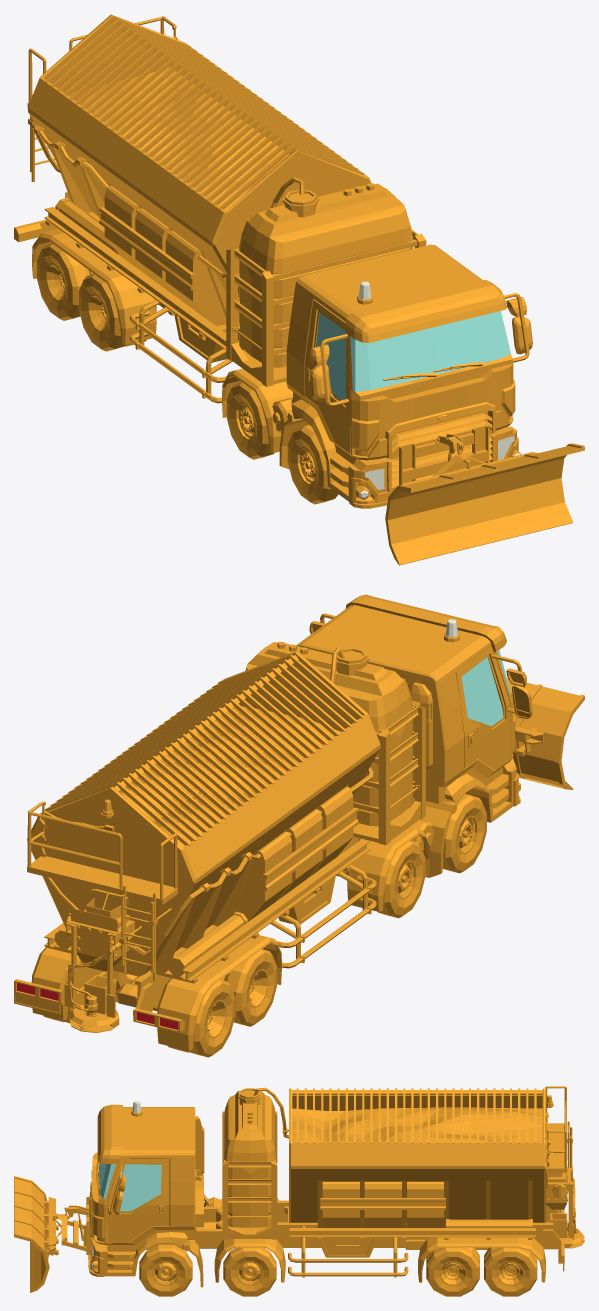
The model's file is SM_Car_Truck_Modern_Gritter.fbx.
3 renders of one model, top to bottom at view 1: azimuth 30°, elevation 25°; view 2: azimuth 150°, elevation 25°; view 3: azimuth 270°, elevation 25°, orthographic. The views are drawn at different scales.
Parts seen in each view (by area): view 1: SM_Car_Truck_Modern_Gritter_Base, SM_Car_Truck_Modern_Gritter_Door_R, SM_Car_Truck_Modern_Gritter_Wheel_RB2, SM_Car_Truck_Modern_Gritter_Wheel_RF1, SM_Car_Truck_Modern_Gritter_Wheel_RB1, SM_Car_Truck_Modern_Gritter_Wheel_RF2, SM_Car_Truck_Modern_Gritter_Door_L; view 2: SM_Car_Truck_Modern_Gritter_Base, SM_Car_Truck_Modern_Gritter_Door_R, SM_Car_Truck_Modern_Gritter_Wheel_RB1, SM_Car_Truck_Modern_Gritter_Wheel_RF1, SM_Car_Truck_Modern_Gritter_Wheel_RB2, SM_Car_Truck_Modern_Gritter_Wheel_RF2; view 3: SM_Car_Truck_Modern_Gritter_Base, SM_Car_Truck_Modern_Gritter_Door_L, SM_Car_Truck_Modern_Gritter_Wheel_LB1, SM_Car_Truck_Modern_Gritter_Wheel_LF1, SM_Car_Truck_Modern_Gritter_Wheel_LB2, SM_Car_Truck_Modern_Gritter_Wheel_LF2.
Boxes of the visible parts, box(x1,y1,x2,y2) form: SM_Car_Truck_Modern_Gritter_Base: box(14, 14, 584, 565); SM_Car_Truck_Modern_Gritter_Door_R: box(304, 299, 350, 453); SM_Car_Truck_Modern_Gritter_Wheel_RB2: box(36, 243, 93, 320); SM_Car_Truck_Modern_Gritter_Wheel_RF1: box(287, 425, 338, 504); SM_Car_Truck_Modern_Gritter_Wheel_RB1: box(78, 274, 146, 351); SM_Car_Truck_Modern_Gritter_Wheel_RF2: box(226, 382, 274, 459); SM_Car_Truck_Modern_Gritter_Door_L: box(504, 293, 532, 362); SM_Car_Truck_Modern_Gritter_Base: box(14, 594, 584, 1050); SM_Car_Truck_Modern_Gritter_Door_R: box(455, 646, 532, 770); SM_Car_Truck_Modern_Gritter_Wheel_RB1: box(220, 949, 277, 1026); SM_Car_Truck_Modern_Gritter_Wheel_RF1: box(442, 794, 486, 873); SM_Car_Truck_Modern_Gritter_Wheel_RB2: box(167, 979, 235, 1057); SM_Car_Truck_Modern_Gritter_Wheel_RF2: box(378, 840, 425, 918); SM_Car_Truck_Modern_Gritter_Base: box(14, 1086, 584, 1292); SM_Car_Truck_Modern_Gritter_Door_L: box(107, 1158, 169, 1243); SM_Car_Truck_Modern_Gritter_Wheel_LB1: box(426, 1247, 479, 1296); SM_Car_Truck_Modern_Gritter_Wheel_LF1: box(139, 1244, 192, 1296); SM_Car_Truck_Modern_Gritter_Wheel_LB2: box(484, 1247, 537, 1296); SM_Car_Truck_Modern_Gritter_Wheel_LF2: box(223, 1247, 276, 1296).
Bounding box in the file's own units: 3.28 × 3.8 × 10.79.
